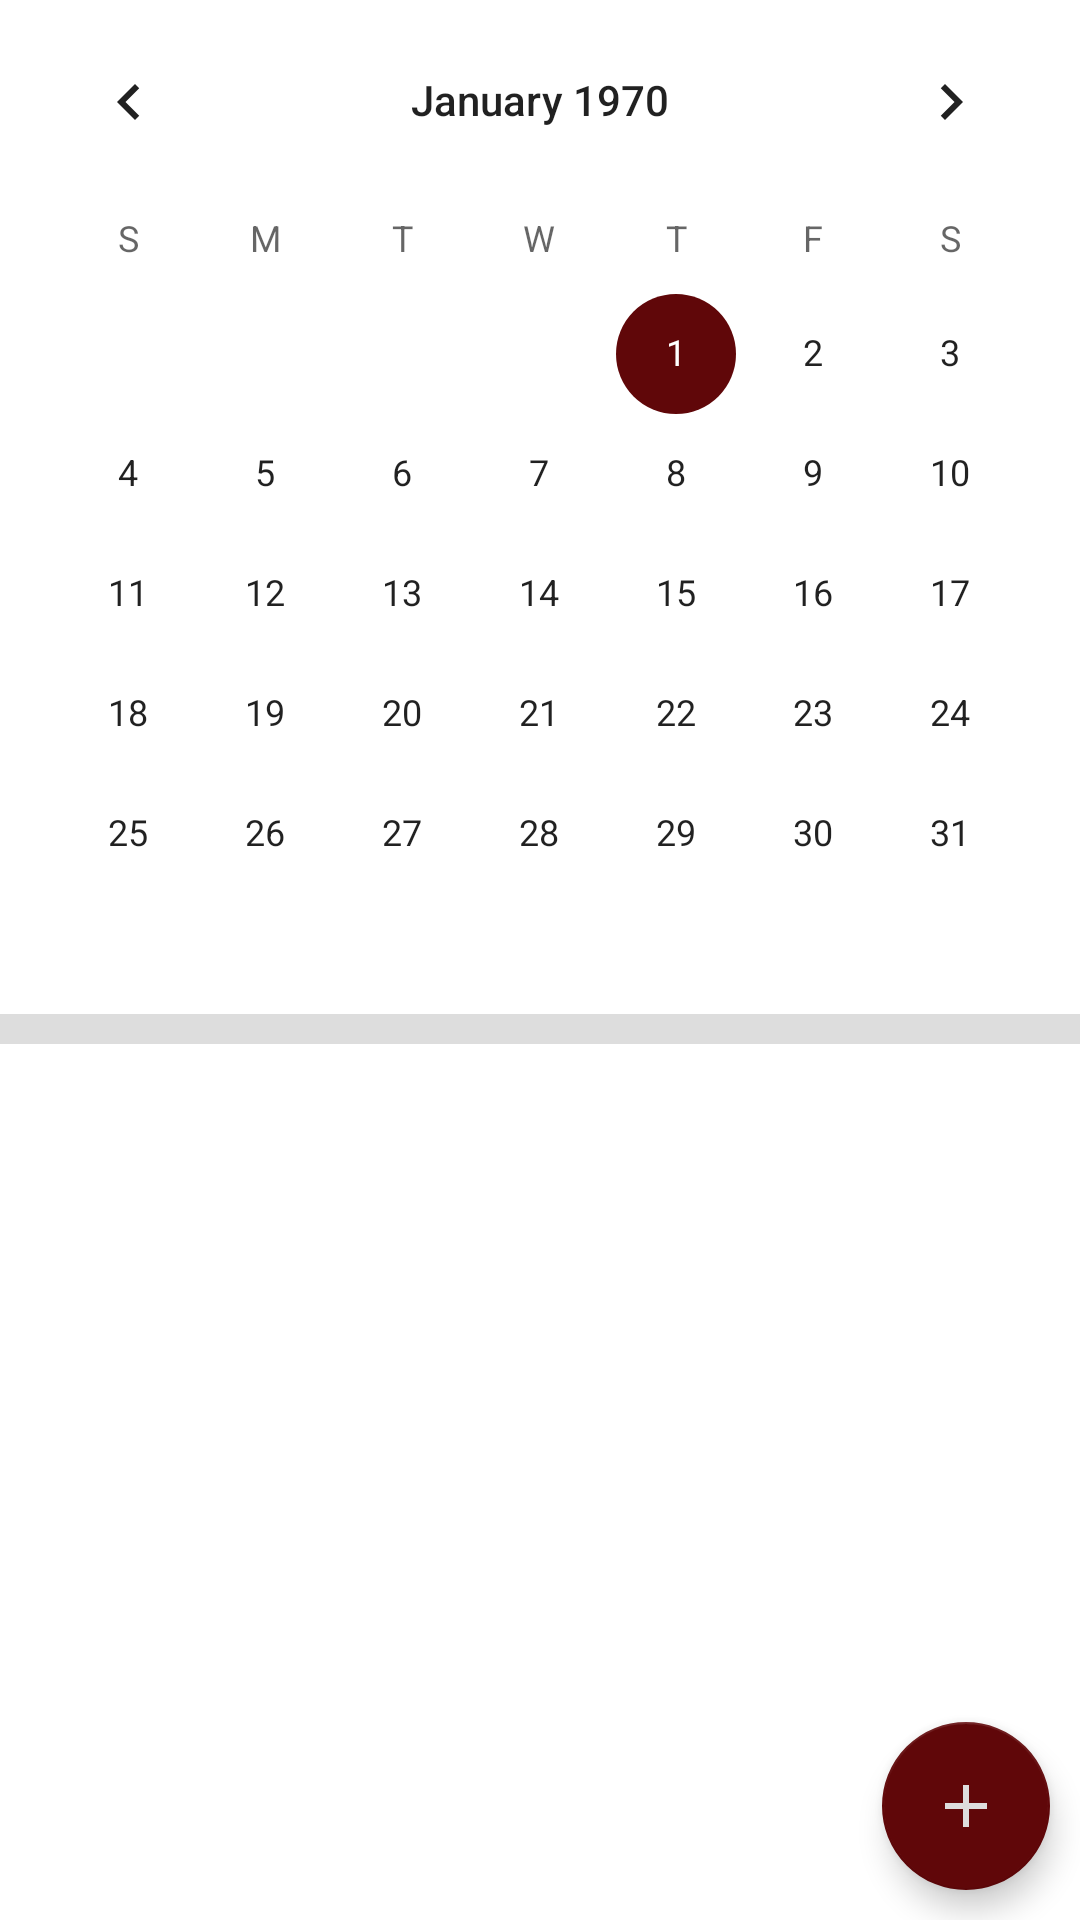

Icon click points for this 1080*1920 phone screenshot, format (x=x, y=y):
plus: (x=966, y=1806)
